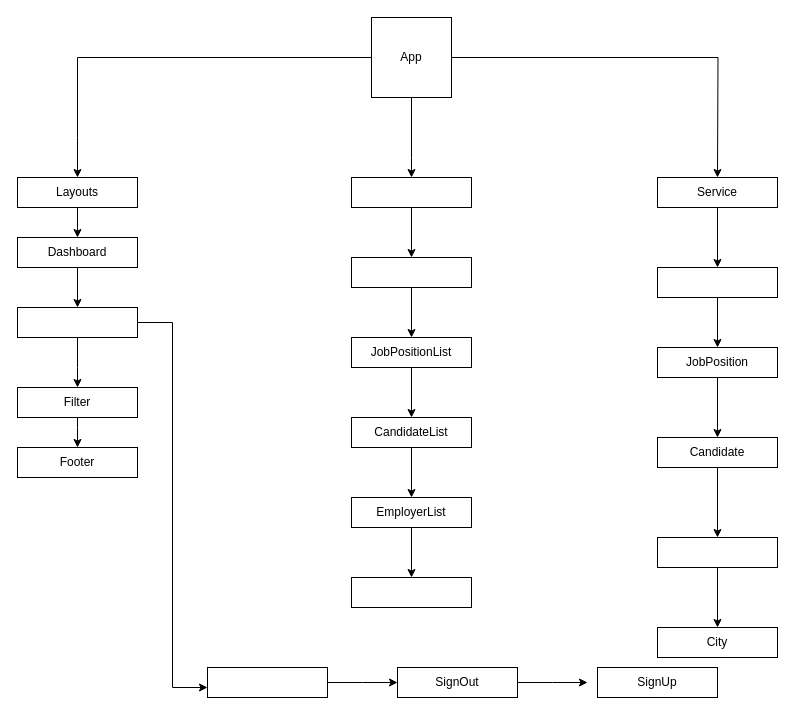
This 795x715 diagram has some shape labels left out. The centre of each missing label's shape, as x and y in pixels:
"CityList" belongs at point 411,592.
"Employer" belongs at point 717,552.
"JobExperience" belongs at point 717,282.
"JobExperienceList" belongs at point 411,272.
"Navi" belongs at point 77,322.
"Pages" belongs at point 411,192.
"SignIn" belongs at point 267,682.
